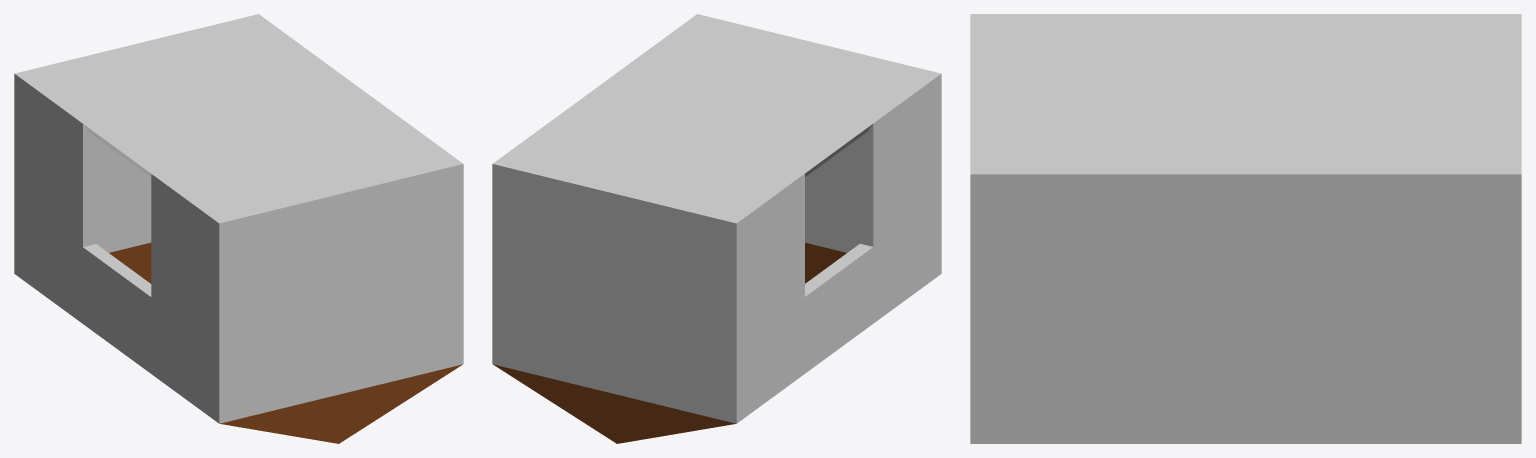
Rendered from House.fbx.
The picture shows the model from 3 angles, left to right: view 1: azimuth 30°, elevation 25°; view 2: azimuth 150°, elevation 25°; view 3: azimuth 270°, elevation 25°; orthographic projection. The views are drawn at different scales.
Parts seen in each view (by area): view 1: Cube; view 2: Cube; view 3: Cube.
Part boxes in pixels (<box>): Cube: <box>14,14,463,443</box>; Cube: <box>492,14,941,443</box>; Cube: <box>970,14,1521,443</box>.
Bounding box in the file's own units: 255 × 249 × 371.
